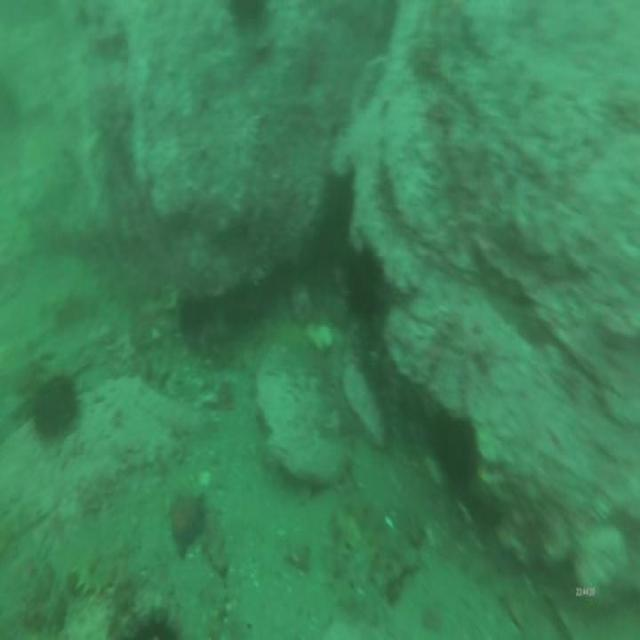echinus: (431, 411, 481, 498), (346, 246, 391, 332), (32, 372, 81, 448), (125, 599, 183, 640), (176, 290, 218, 342), (226, 0, 269, 27)
holothurian: (72, 542, 116, 602)
starfish: (164, 485, 210, 567)
